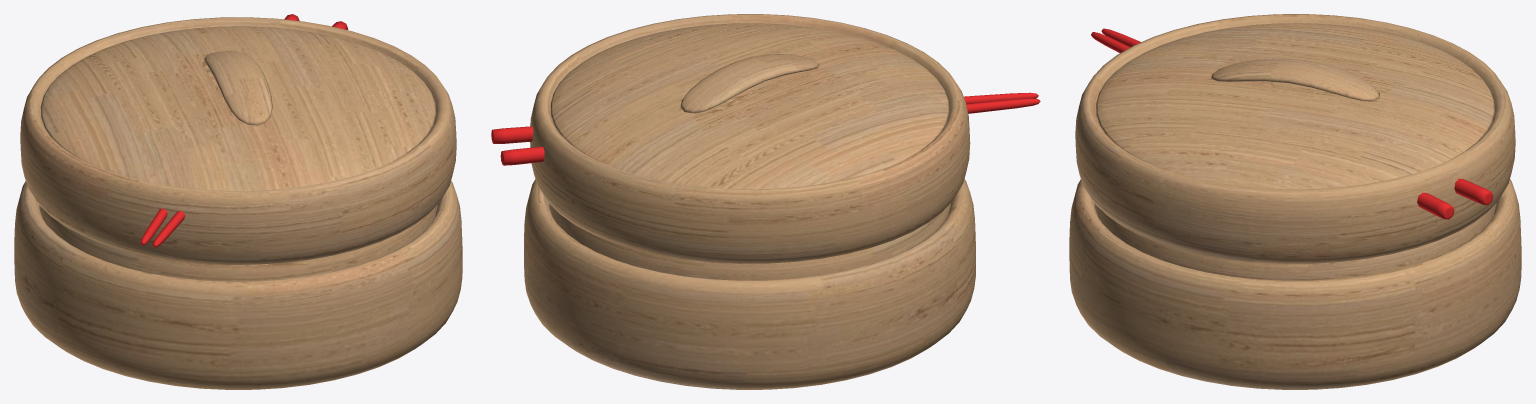
File: dumplings.glb
3 views of the same model, side by side, from view 1: azimuth 30°, elevation 25°; view 2: azimuth 150°, elevation 25°; view 3: azimuth 270°, elevation 25° (orthographic).
Visible parts, largest first — view 1: Steamer lid, Steamer, Chopstick; view 2: Steamer lid, Steamer, Chopstick; view 3: Steamer lid, Steamer, Chopstick.
Boxes of the visible parts, bbox=[...] form: Steamer lid: bbox=[20, 17, 456, 264]; Steamer: bbox=[14, 181, 462, 389]; Chopstick: bbox=[140, 14, 347, 247]; Steamer lid: bbox=[530, 14, 970, 263]; Steamer: bbox=[524, 179, 975, 389]; Chopstick: bbox=[491, 92, 1040, 165]; Steamer lid: bbox=[1075, 14, 1515, 263]; Steamer: bbox=[1069, 179, 1521, 389]; Chopstick: bbox=[1091, 28, 1493, 219].
Size of the model in its own units: 0.6698 by 0.3956 by 0.6698.
3 materials, 1 textured.
